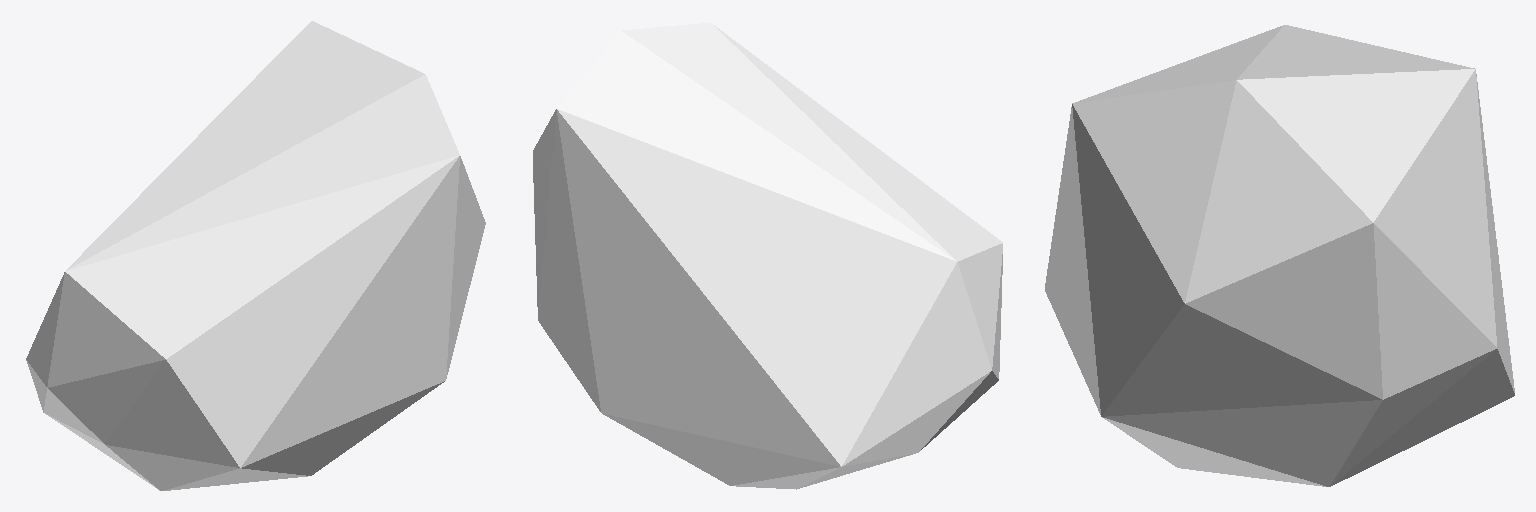
robot.urdf — hrp2_lleg_rom:
<robot name="hrp2_lleg_rom">
  <link name="base_link">
    <visual>
      <origin xyz="0 0 0" rpy="0 0 0.003" />
      <geometry>
        <mesh filename="package://hpp-rbprm-corba/meshes/hrp2_lleg_rom.stl"/>
      </geometry>
      <material name="white">
        <color rgba="1 1 1 1"/>
      </material>
    </visual>
    <collision>
      <origin xyz="0 0 0" rpy="0 0 0.003" />
      <geometry>
        <mesh filename="package://hpp-rbprm-corba/meshes/hrp2_lleg_rom.stl"/>
      </geometry>
    </collision>
  </link>
</robot>

--- Facts derived from the render (not from the file) ---
The picture shows the robot from 3 angles, left to right: view 1: azimuth 30°, elevation 25°; view 2: azimuth 150°, elevation 25°; view 3: azimuth 270°, elevation 25°; orthographic projection.
Robot: hrp2_lleg_rom — 1 links, 0 joints (none); root link base_link; default pose: all joints at 0.
Links seen in each view (by area): view 1: base_link; view 2: base_link; view 3: base_link.
Link boxes in pixels (<box>): base_link: <box>26,21,485,490</box>; base_link: <box>533,22,1002,489</box>; base_link: <box>1045,25,1514,486</box>.
Size in the robot's own frame: 1.18 by 0.8657 by 1 metres.
Meshes: 1 distinct files referenced, 1 mesh visuals loaded (1 binary STL).